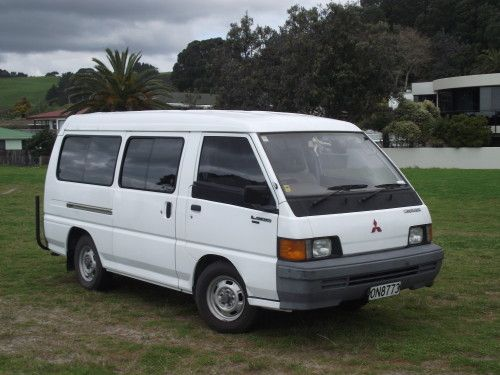van: (42, 110, 444, 335)
